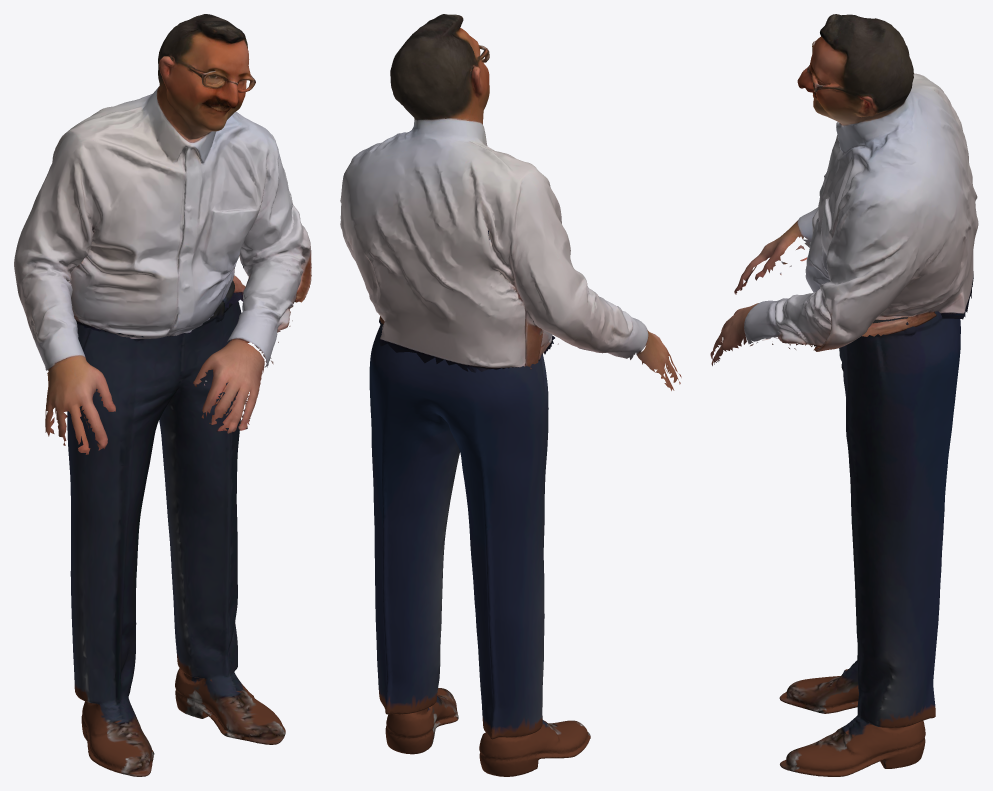
The model's file is jackson-fullbody.glb.
3 views of the same model, side by side, from view 1: azimuth 30°, elevation 25°; view 2: azimuth 150°, elevation 25°; view 3: azimuth 270°, elevation 25° (orthographic). The views are drawn at different scales.
Visible parts, largest first — view 1: torso_head_textured, legs; view 2: legs, torso_head_textured; view 3: torso_head_textured, legs.
Part boxes in pixels (box(x1,y1,x2,y2)): torso_head_textured: box(14, 14, 311, 454); legs: box(67, 280, 285, 776); legs: box(369, 317, 590, 776); torso_head_textured: box(340, 14, 681, 390); torso_head_textured: box(710, 14, 978, 365); legs: box(779, 311, 960, 776).
Bounding box in the file's own units: 0.7638 × 1.8 × 0.5959.
2 materials, 1 textured.
